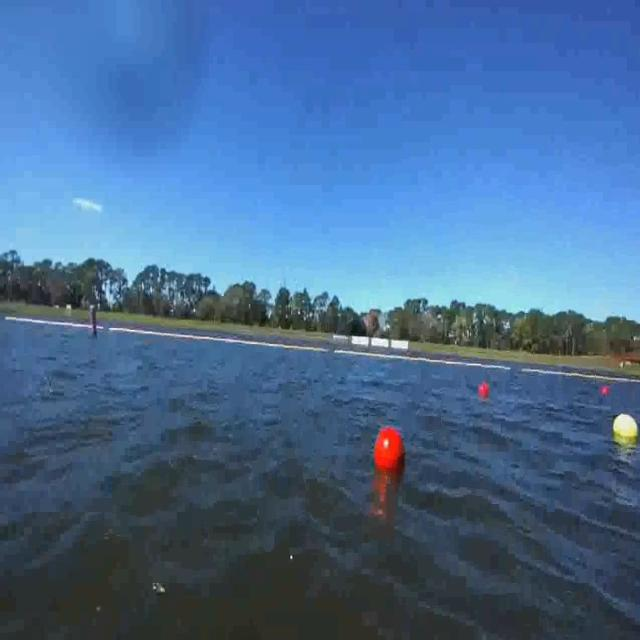red-buoy: (375, 426, 407, 478), (480, 380, 490, 398)
yellow-buoy: (614, 415, 639, 444)
